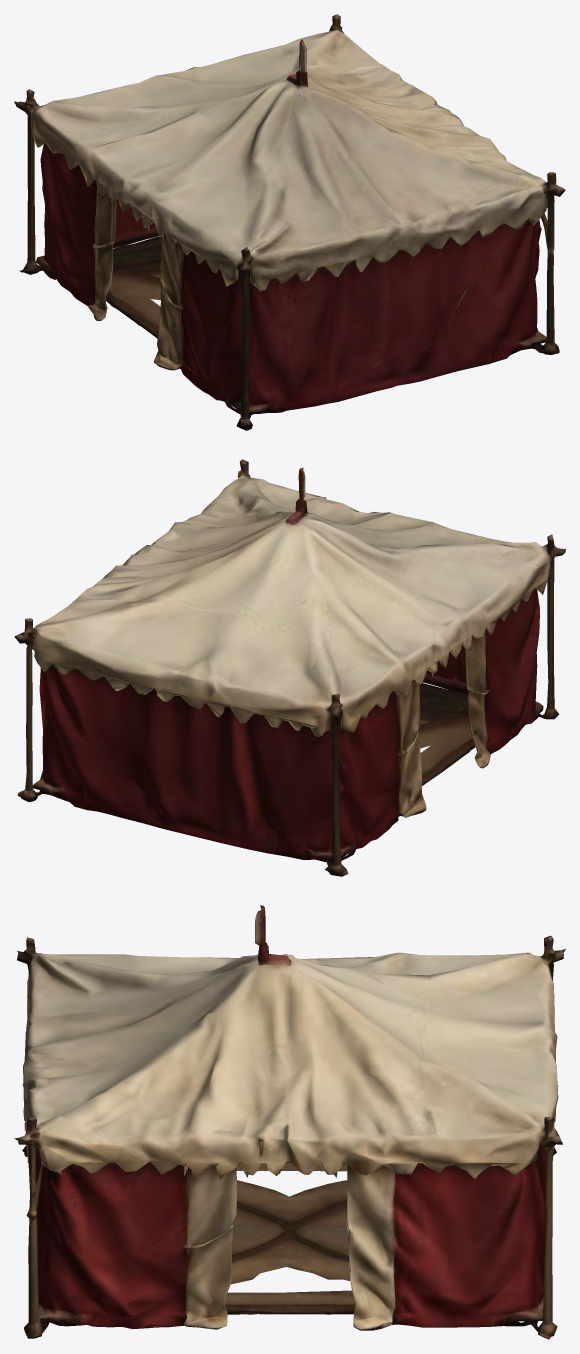
File: tent-low.glb
The picture shows the model from 3 angles, top to bottom: view 1: azimuth 30°, elevation 25°; view 2: azimuth 150°, elevation 25°; view 3: azimuth 270°, elevation 25°; orthographic projection. The views are drawn at different scales.
Size of the model in its own units: 0.8317 by 0.6742 by 0.9948.
1 material, 1 textured.
